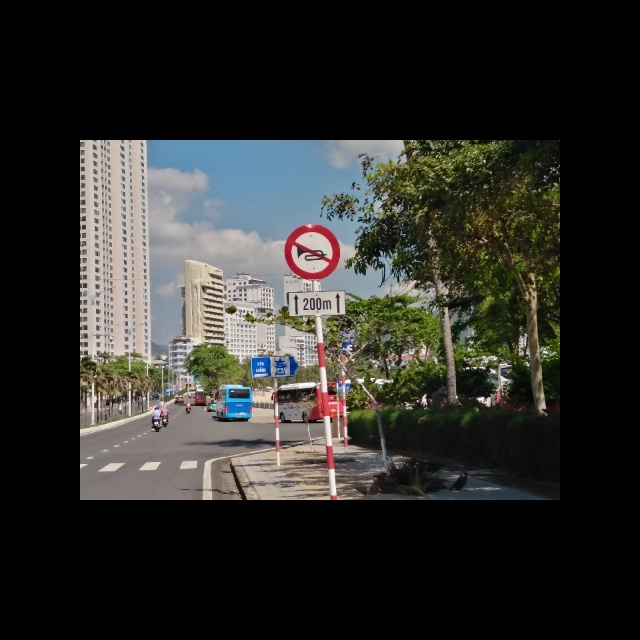Cấm bấm còi: (284, 224, 341, 280)
